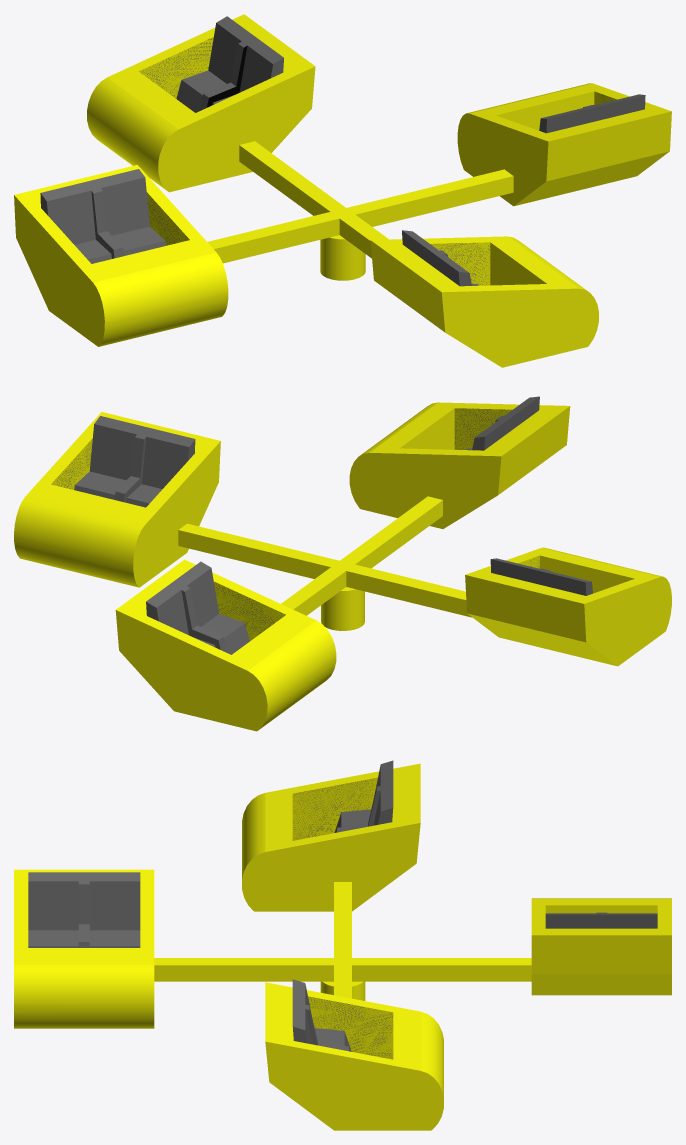
The model's file is car_yellow.glb.
3 renders of one model, top to bottom at view 1: azimuth 30°, elevation 25°; view 2: azimuth 150°, elevation 25°; view 3: azimuth 270°, elevation 25°, orthographic. The views are drawn at different scales.
Visible parts, largest first — view 1: SketchUp.009, SketchUp.020, SketchUp.028, SketchUp, SketchUp.008, SketchUp.018, SketchUp.010, SketchUp.014, SketchUp.001, SketchUp.032, SketchUp.026, SketchUp.005 (+2 smaller); view 2: SketchUp.009, SketchUp, SketchUp.020, SketchUp.028, SketchUp.008, SketchUp.001, SketchUp.010, SketchUp.017, SketchUp.018, SketchUp.031, SketchUp.026, SketchUp.021 (+2 smaller); view 3: SketchUp, SketchUp.020, SketchUp.028, SketchUp.009, SketchUp.008, SketchUp.026, SketchUp.024, SketchUp.006, SketchUp.001, SketchUp.018, SketchUp.010, SketchUp.012.
Part boxes in pixels (box(x1,y1,x2,y2)): SketchUp.009: box(87, 14, 315, 192); SketchUp.020: box(14, 165, 228, 346); SketchUp.028: box(370, 236, 598, 367); SketchUp: box(457, 83, 671, 206); SketchUp.008: box(207, 141, 513, 280); SketchUp.018: box(40, 169, 165, 263); SketchUp.010: box(176, 16, 283, 112); SketchUp.014: box(139, 37, 213, 98); SketchUp.001: box(539, 94, 645, 133); SketchUp.032: box(430, 242, 490, 285); SketchUp.026: box(402, 230, 478, 286); SketchUp.005: box(496, 91, 594, 130); SketchUp.009: box(115, 559, 336, 731); SketchUp: box(14, 412, 220, 587); SketchUp.020: box(465, 547, 671, 666); SketchUp.028: box(349, 402, 570, 528); SketchUp.008: box(178, 496, 471, 630); SketchUp.001: box(74, 416, 195, 507); SketchUp.010: box(146, 561, 249, 654); SketchUp.017: box(214, 581, 285, 640); SketchUp.018: box(490, 558, 592, 595); SketchUp.031: box(454, 408, 512, 449); SketchUp.026: box(465, 396, 539, 450); SketchUp.021: box(540, 555, 634, 593); SketchUp: box(265, 982, 443, 1130); SketchUp.020: box(242, 763, 420, 911); SketchUp.028: box(14, 869, 154, 1028); SketchUp.009: box(531, 898, 671, 995); SketchUp.008: box(154, 882, 531, 1000); SketchUp.026: box(28, 872, 140, 947); SketchUp.024: box(292, 777, 377, 840); SketchUp.006: box(308, 996, 393, 1059); SketchUp.001: box(292, 979, 351, 1051); SketchUp.018: box(334, 760, 393, 832); SketchUp.010: box(545, 912, 657, 928); SketchUp.012: box(545, 905, 657, 913).
Bounding box in the file's own units: 7.33 × 1.54 × 7.33.
